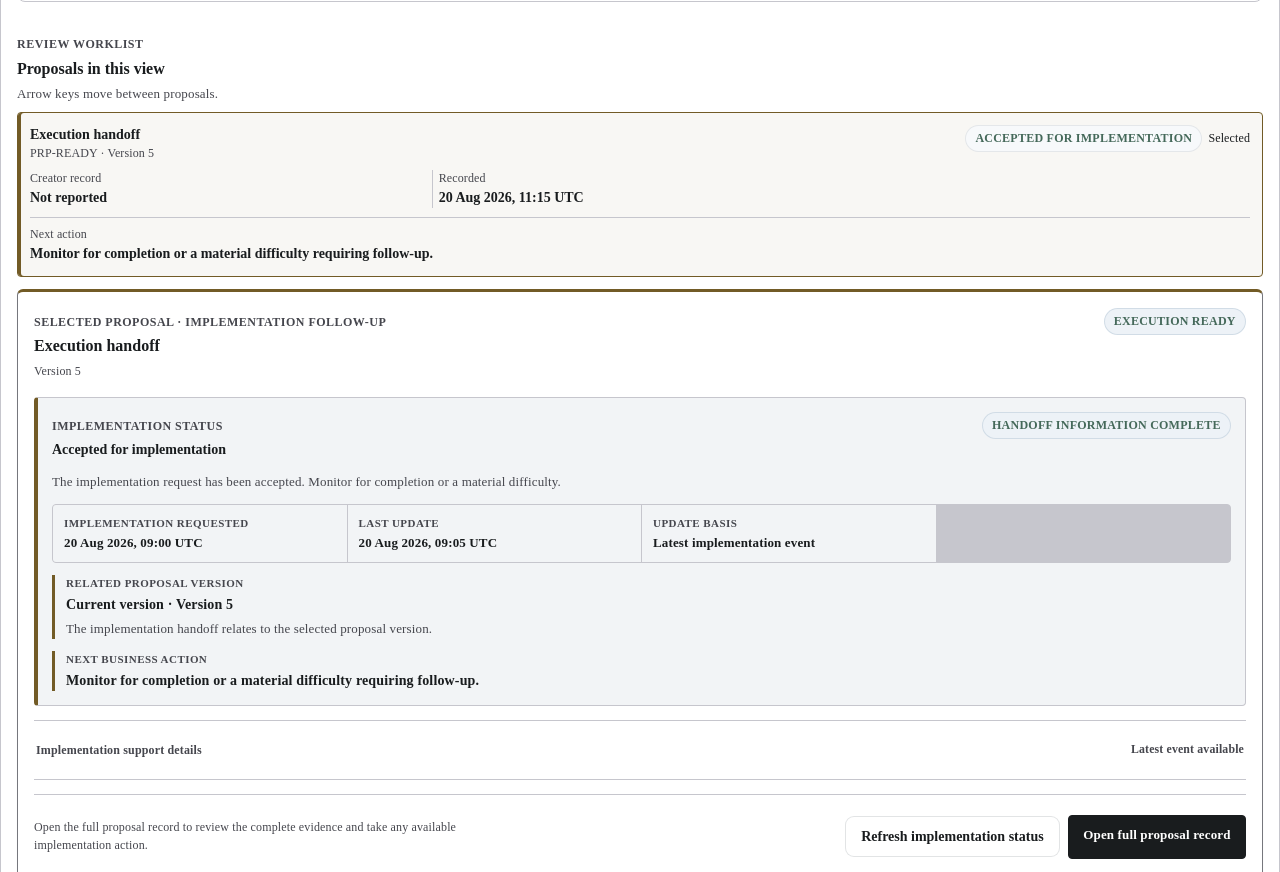
ProposalLifecycleWorkspace › refreshes implementation evidence against an advanced source lifecycle identity
(page scrolled)
expect the heading "Accepted for implementation" is shown: met, box [52,440,226,460]
Click the button "Refresh implementation status": (952, 836) [845,816,1060,857]
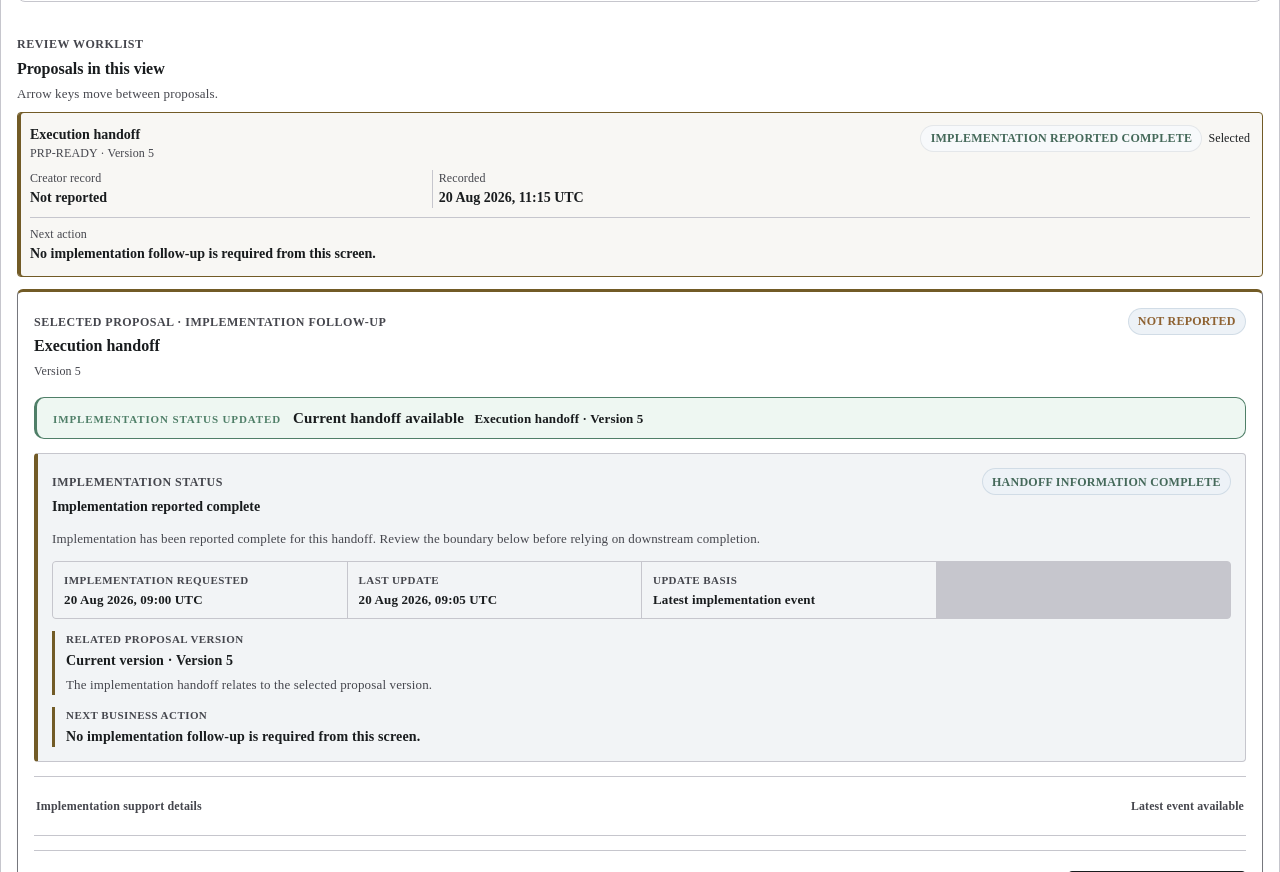
expect the heading "Implementation reported complete" is shown: met, box [52,497,260,517]
expect the text "Current handoff available" is shown: met, box [293,408,464,428]
